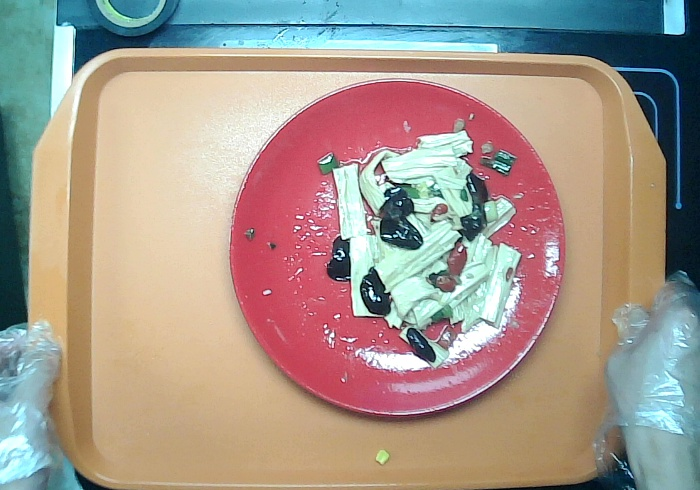HZYJPL-Hong_Se_Yuan_Pan: (210, 72, 580, 438)
